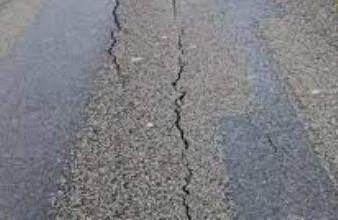crack: (165, 0, 198, 220), (102, 0, 126, 76)
